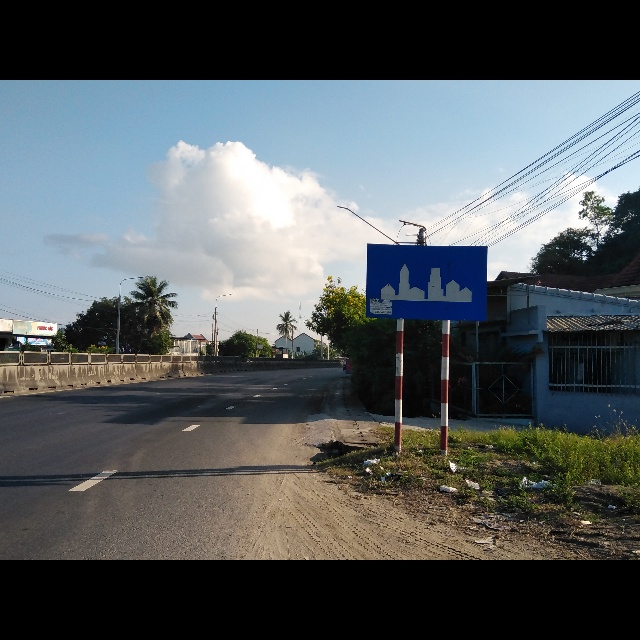Khu đông dân cư: (365, 241, 488, 321)
